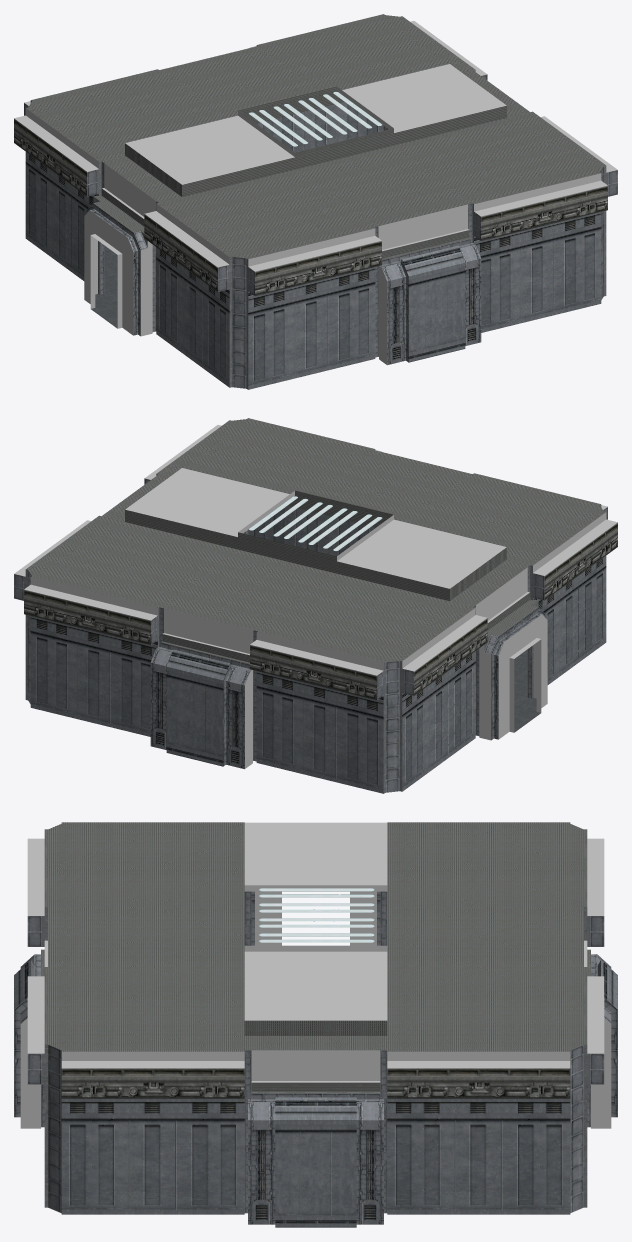
The model's file is poi_all_impl_bunker_warren_s01_r47_smallroom47_mesh_r47.fbx.
3 views of the same model, one above another, from view 1: azimuth 30°, elevation 25°; view 2: azimuth 150°, elevation 25°; view 3: azimuth 270°, elevation 25° (orthographic). The views are drawn at different scales.
Visible parts, largest first — view 1: mesh_node; view 2: mesh_node; view 3: mesh_node.
Boxes of the visible parts, x1,y1,x2,y2 form: mesh_node: [14, 14, 617, 389]; mesh_node: [14, 418, 617, 793]; mesh_node: [14, 822, 617, 1227].
Bounding box in the file's own units: 17.9 × 6 × 17.8.
